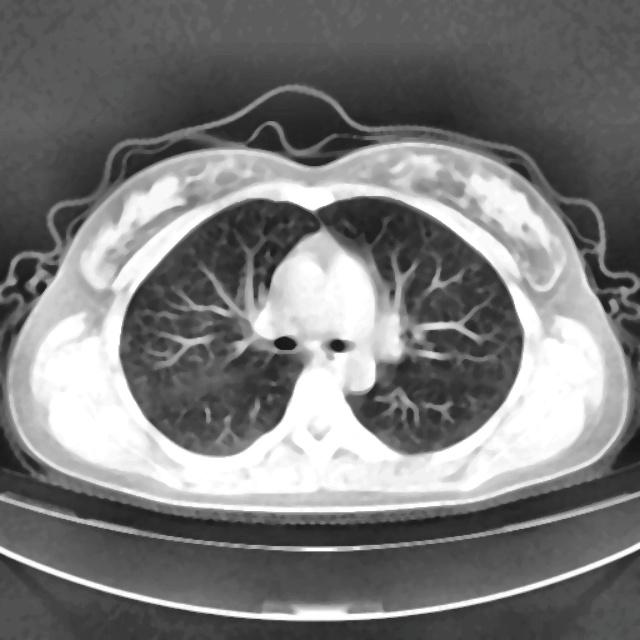covid: (1, 86, 637, 526)
